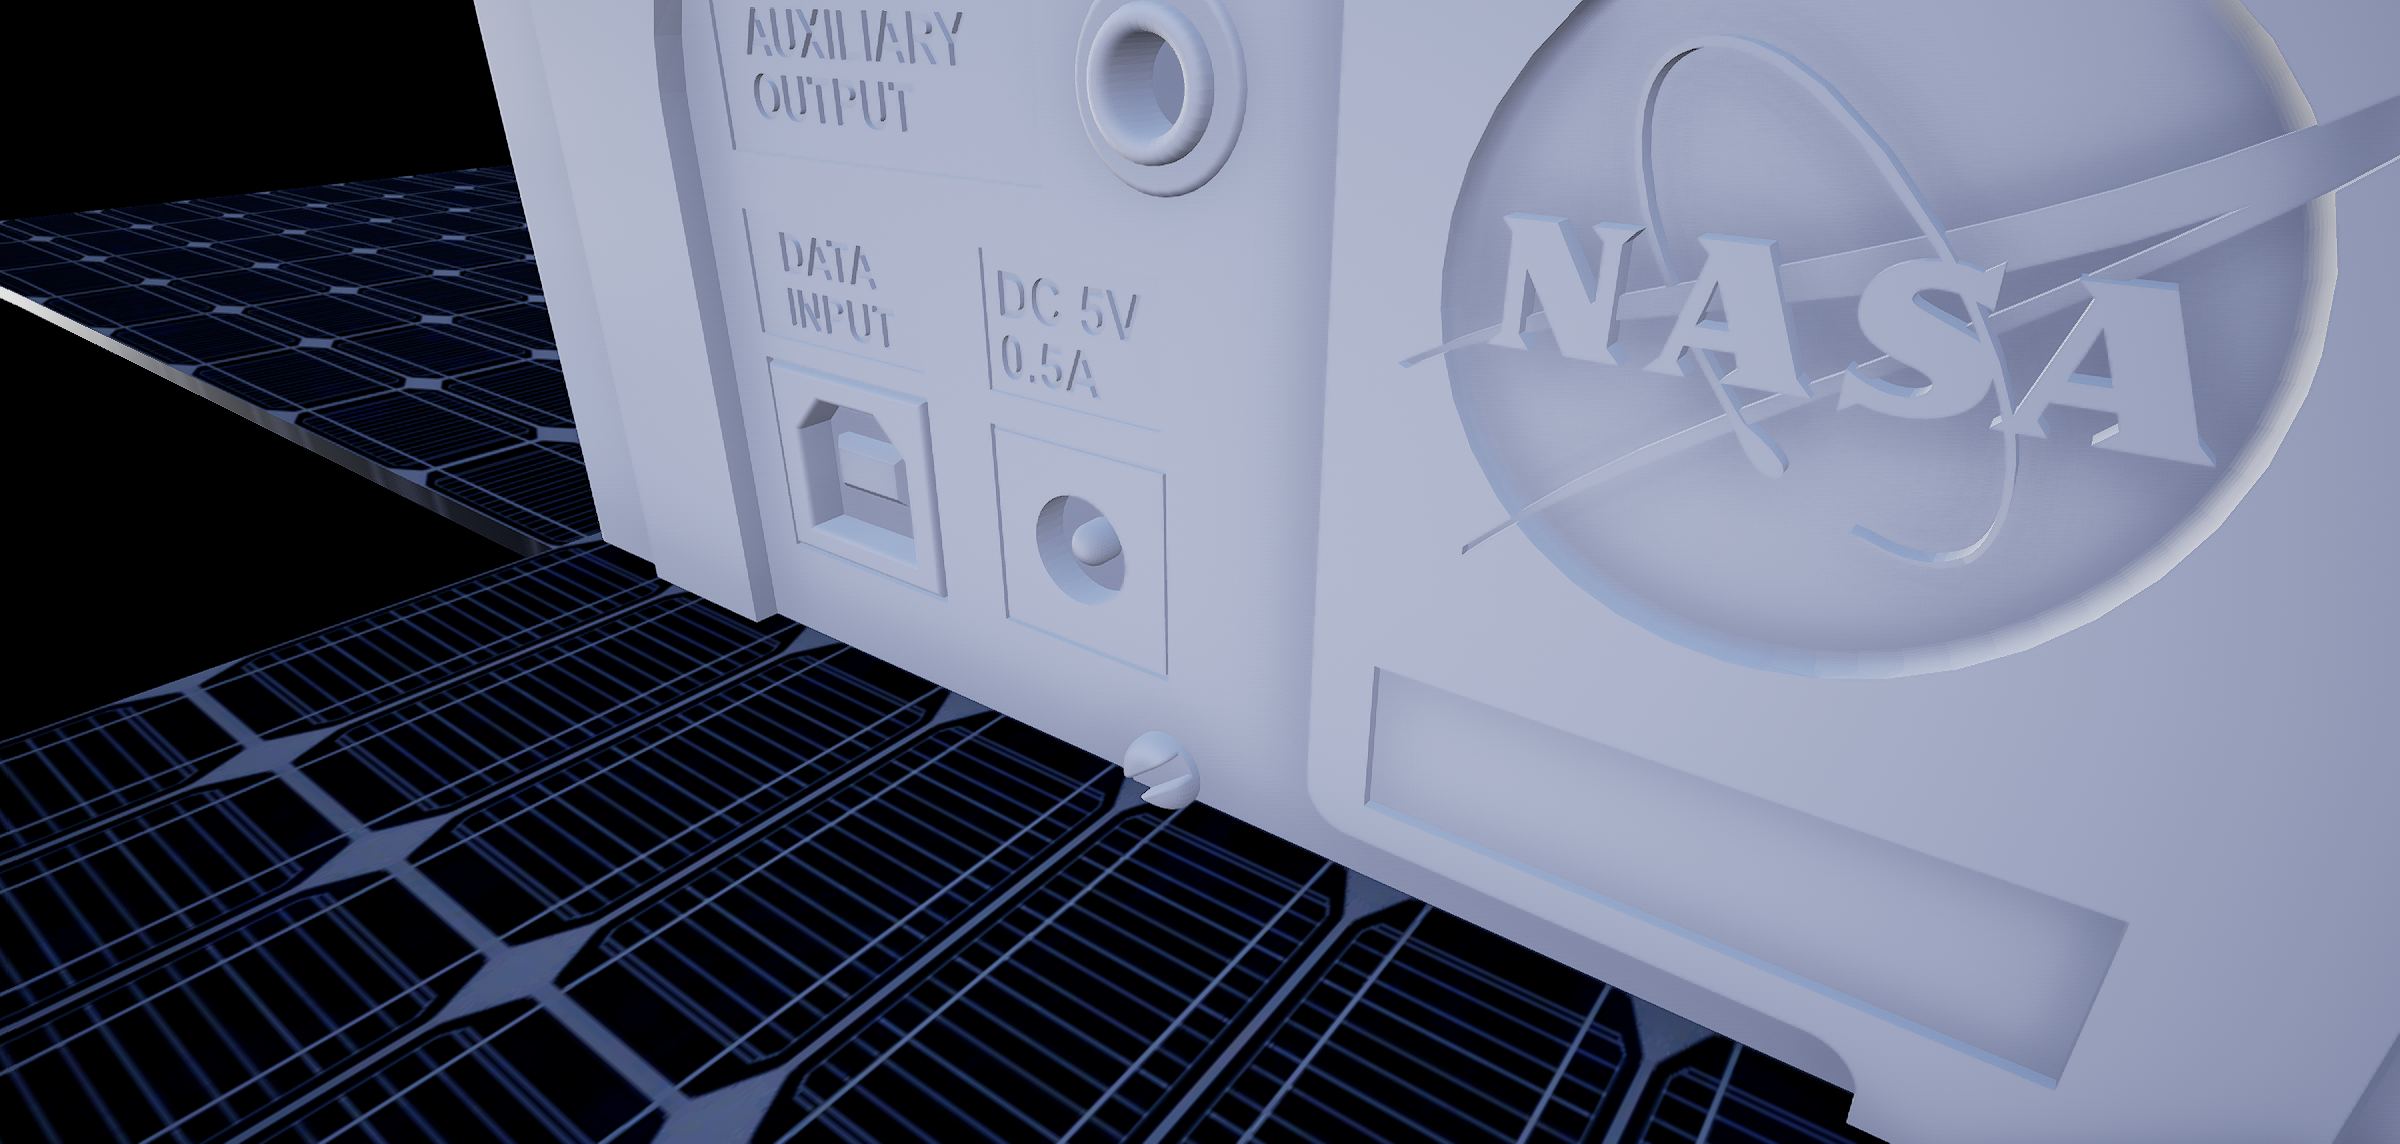aux: (1052, 2, 1267, 187)
dc: (1018, 476, 1143, 629)
usb: (774, 391, 941, 593)
